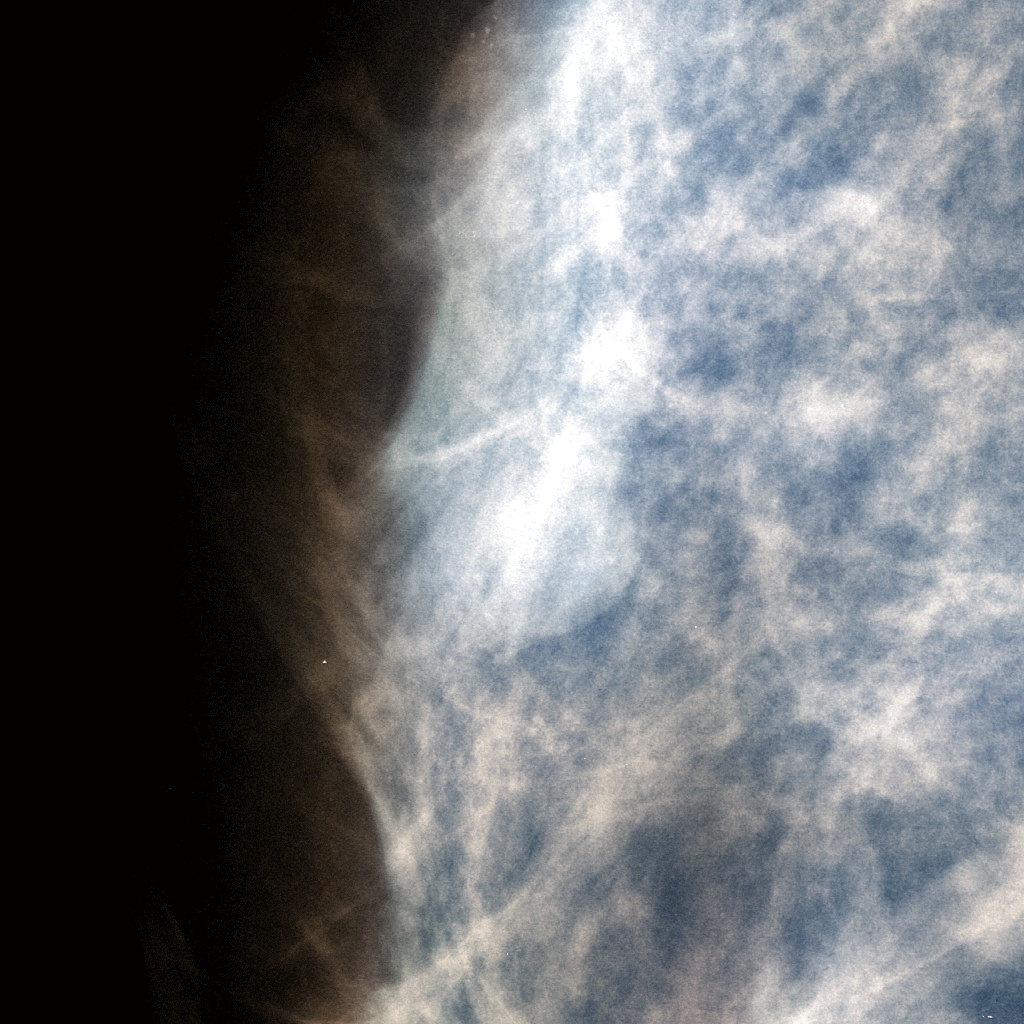tumor: (364, 373, 660, 651)
